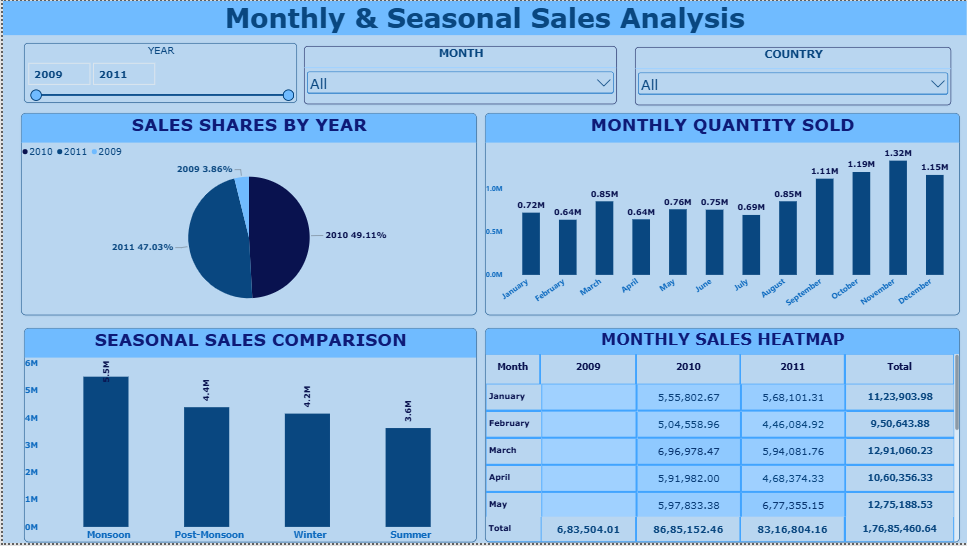

The dashboard page shown, as its layout file describes it:
{"tool":"powerbi","page":{"name":"Monthly & Seasonal Sales Analysis","canvas":[1920,1080],"ordinal":5},"visuals":[{"type":"textbox","box":[0,0,1920,68.1],"z":0},{"type":"pieChart","title":"SALES SHARES BY YEAR","fields":{"Category":["CLEANED.YEAR"],"Series":["CLEANED.YEAR"],"Y":["Sum(CLEANED.TOTAL SALES)"]},"box":[35.1,223,908.4,402.6],"z":1000},{"type":"clusteredColumnChart","title":"SEASONAL SALES COMPARISON","fields":{"Category":["CLEANED.Season"],"Y":["Sum(CLEANED.TOTAL SALES)"]},"box":[41.3,652.4,902.2,427.4],"z":2000},{"type":"slicer","title":"YEAR","fields":{"Values":["CLEANED.YEAR"]},"box":[41.3,84.6,544.4,118.5],"z":3000},{"type":"slicer","title":"MONTH","fields":{"Values":["CLEANED.MONTH"]},"box":[600.8,88.8,623.4,116.3],"z":4000},{"type":"slicer","title":"COUNTRY","fields":{"Values":["CLEANED.Country"]},"box":[1259.4,90.8,630,116.3],"z":5000},{"type":"lineClusteredColumnComboChart","title":"MONTHLY QUANTITY SOLD","fields":{"Category":["CLEANED.DATE.Variation.Date Hierarchy.Month"],"Y":["CLEANED.Total Quantity"]},"box":[960,223,945.5,402.6],"z":6000},{"type":"pivotTable","title":"MONTHLY SALES HEATMAP","fields":{"Columns":["CLEANED.YEAR"],"Rows":["CLEANED.DATE.Variation.Date Hierarchy.Month"],"Values":["Sum(CLEANED.TOTAL SALES)"]},"box":[960,652.4,945.5,427.4],"z":7000}]}

Visuals, with their boxes in screenshot pixels (x1, y1, x2, y2), scaled from the page's 1920x1080 canvas onto the 967x546 screenshot:
textbox: box(0, 0, 966, 34)
"SALES SHARES BY YEAR" pieChart: box(18, 113, 475, 316)
"SEASONAL SALES COMPARISON" clusteredColumnChart: box(21, 330, 475, 545)
"YEAR" slicer: box(21, 43, 295, 103)
"MONTH" slicer: box(303, 45, 617, 104)
"COUNTRY" slicer: box(634, 46, 952, 105)
"MONTHLY QUANTITY SOLD" lineClusteredColumnComboChart: box(484, 113, 960, 316)
"MONTHLY SALES HEATMAP" pivotTable: box(484, 330, 960, 545)
